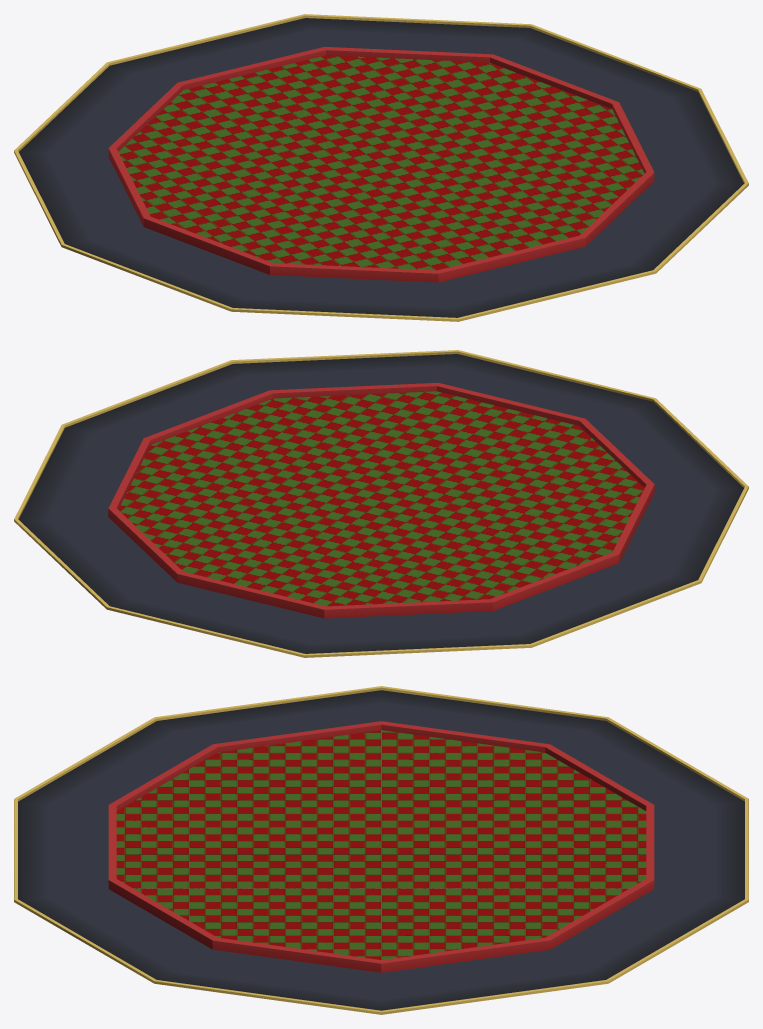
Rendered from squidgame_background_map3_floor.fbx.
The picture shows the model from 3 angles, top to bottom: view 1: azimuth 30°, elevation 25°; view 2: azimuth 150°, elevation 25°; view 3: azimuth 270°, elevation 25°; orthographic projection. The views are drawn at different scales.
Visible parts, largest first — view 1: squidgame_background_map3_floor, squidgame_background_map3_floor_frame; view 2: squidgame_background_map3_floor, squidgame_background_map3_floor_frame; view 3: squidgame_background_map3_floor, squidgame_background_map3_floor_frame.
Boxes of the visible parts, <box> form: squidgame_background_map3_floor: <box>19,18,744,317</box>; squidgame_background_map3_floor_frame: <box>14,14,748,321</box>; squidgame_background_map3_floor: <box>18,354,743,653</box>; squidgame_background_map3_floor_frame: <box>14,350,748,657</box>; squidgame_background_map3_floor: <box>18,690,744,1010</box>; squidgame_background_map3_floor_frame: <box>14,686,748,1014</box>.
Size of the model in its own units: 37.88 by 0.5012 by 36.04.
